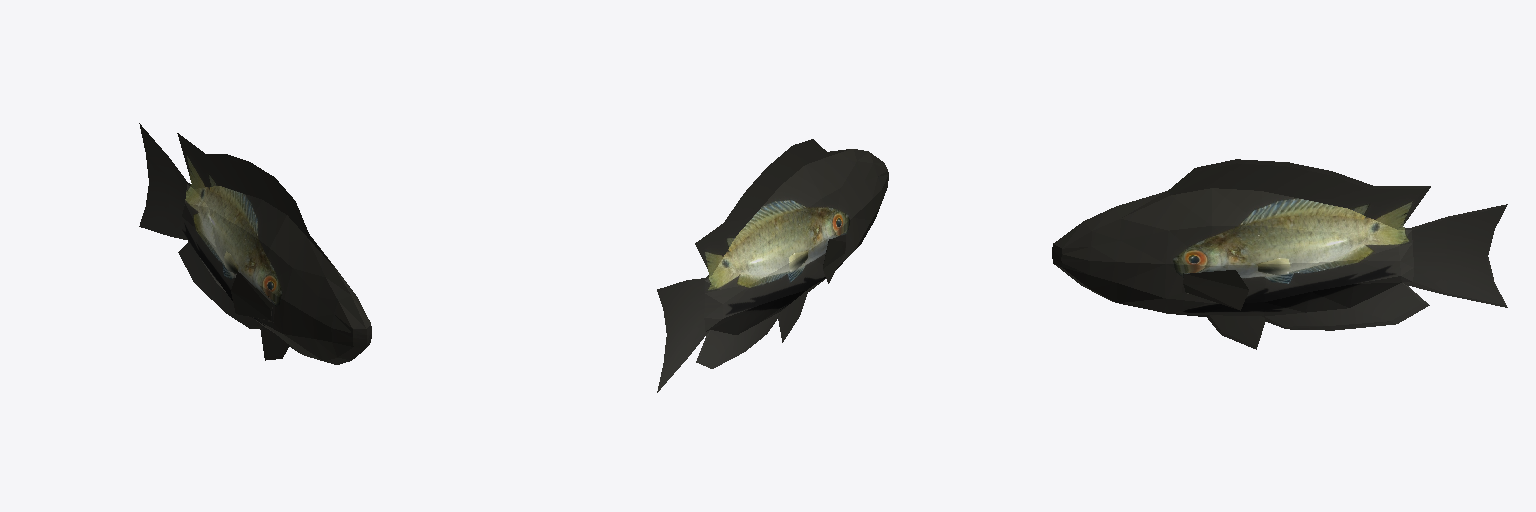
3 renders of one model, left to right at view 1: azimuth 30°, elevation 25°; view 2: azimuth 150°, elevation 25°; view 3: azimuth 270°, elevation 25°, orthographic.
Parts seen in each view (by area): view 1: FISH_Plane; view 2: FISH_Plane; view 3: FISH_Plane.
Boxes of the visible parts, x1,y1,x2,y2 form: FISH_Plane: [139, 123, 371, 364]; FISH_Plane: [657, 139, 888, 392]; FISH_Plane: [1052, 159, 1507, 349].
Size of the model in its own units: 2.03 by 4.58 by 9.92.
1 materials, 1 textured.